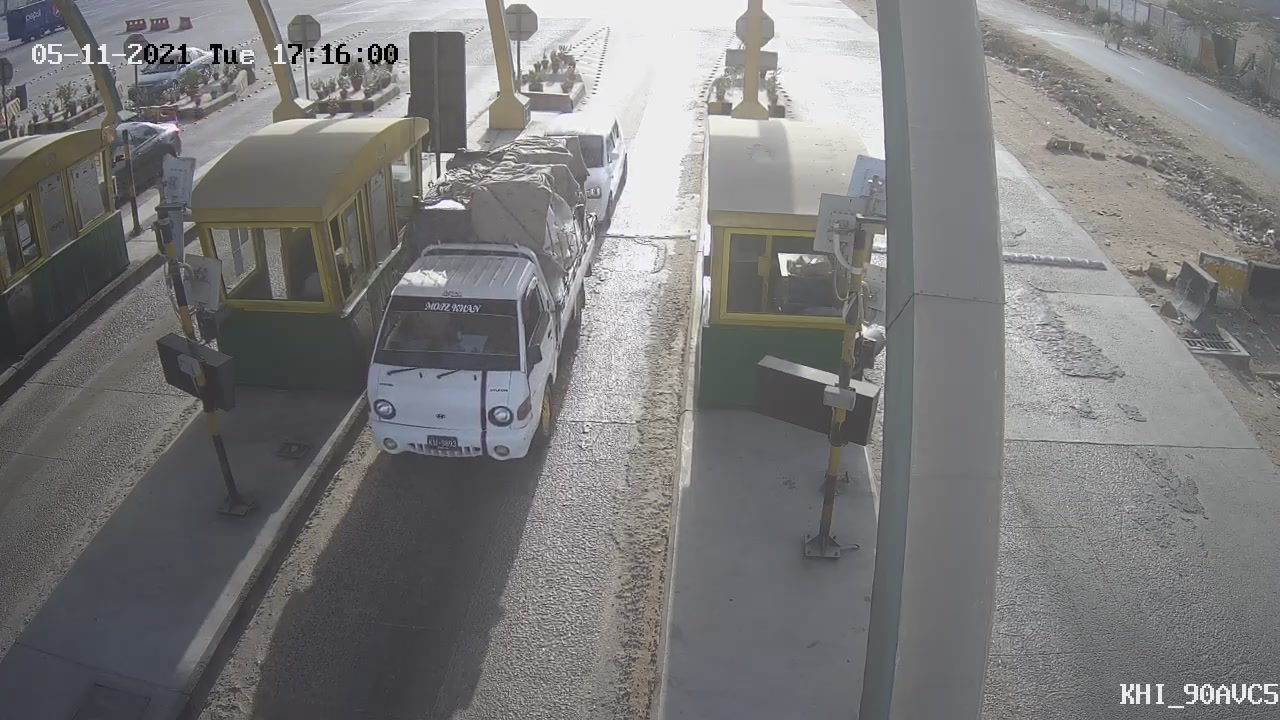F2: (325, 117, 613, 479)
